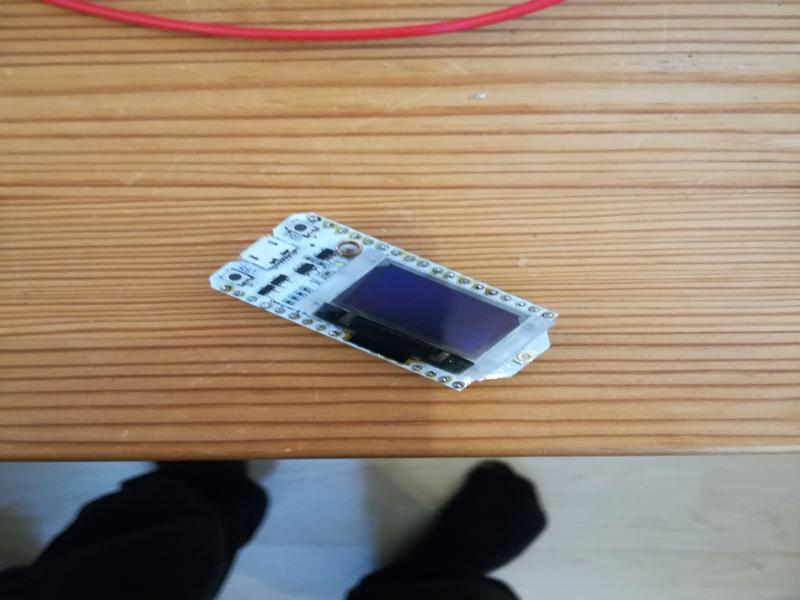Heltec_ESP32_Lora: (203, 210, 561, 401)
